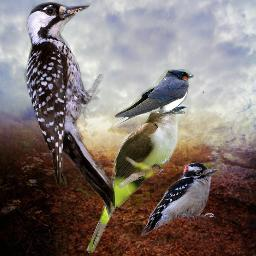Cuckoo: (86, 103, 187, 253)
Swallow: (104, 69, 194, 132)
Woodpecker: (24, 2, 115, 213), (141, 163, 218, 237)
